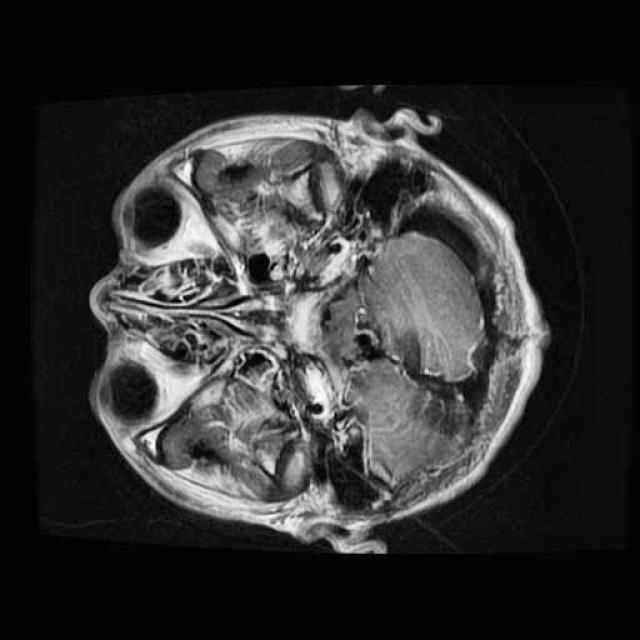Tumor: (384, 318, 500, 450)
